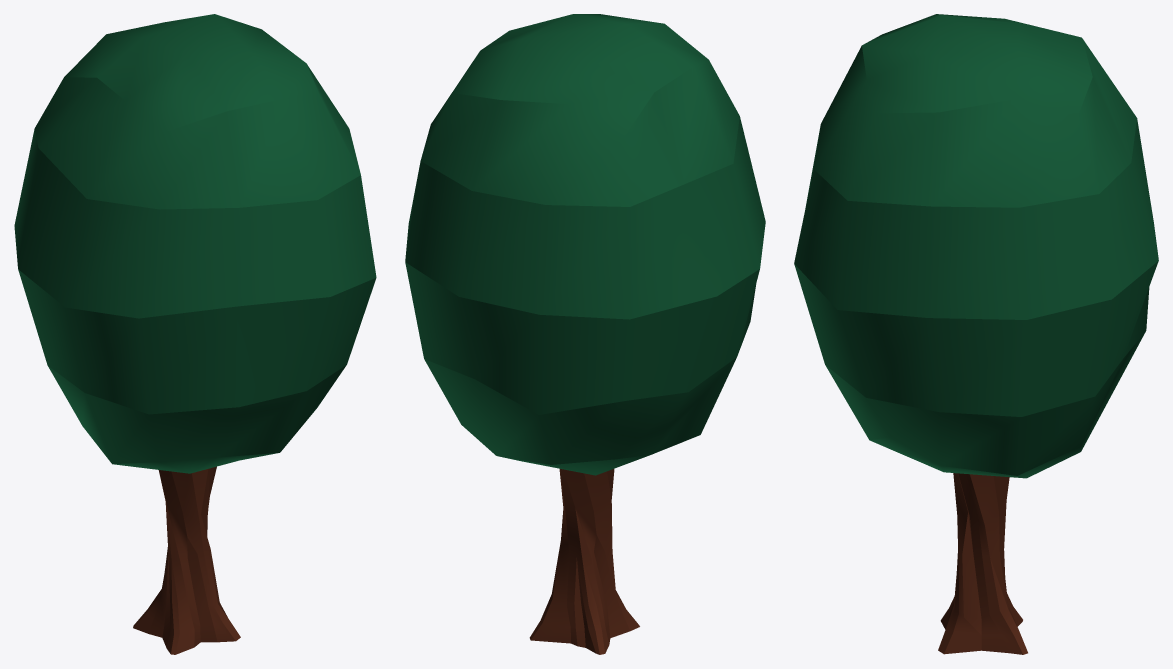
The model's file is Tree_2_Medium.fbx.
The picture shows the model from 3 angles, left to right: view 1: azimuth 30°, elevation 25°; view 2: azimuth 150°, elevation 25°; view 3: azimuth 270°, elevation 25°; orthographic projection. The views are drawn at different scales.
Parts seen in each view (by area): view 1: Tree_2_Medium; view 2: Tree_2_Medium; view 3: Tree_2_Medium.
Part boxes in pixels (x1,y1,x2,y2): Tree_2_Medium: [14, 14, 376, 654]; Tree_2_Medium: [405, 14, 765, 654]; Tree_2_Medium: [794, 14, 1158, 654].
Size of the model in its own units: 101 by 189 by 102.
